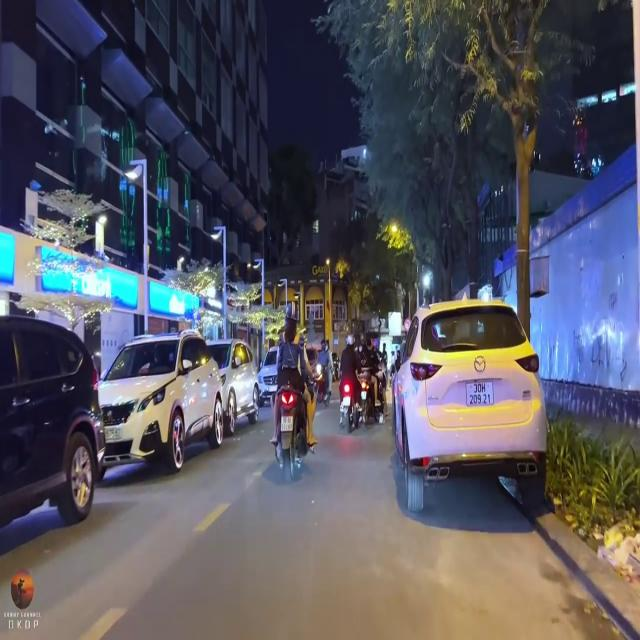bien_trang: (464, 371, 497, 410)
